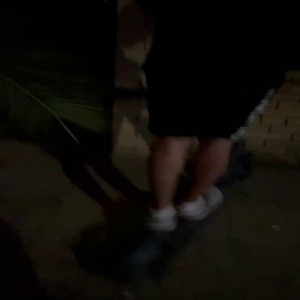human on a scooter: (81, 1, 278, 298)
